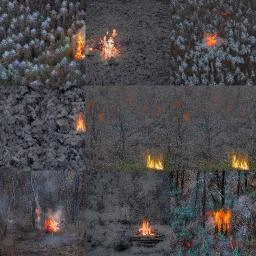Small fire: (57, 20, 132, 67), (22, 191, 73, 248), (65, 89, 115, 136), (200, 200, 238, 239), (129, 209, 169, 246), (221, 142, 255, 177), (198, 22, 229, 55), (139, 145, 173, 175)
